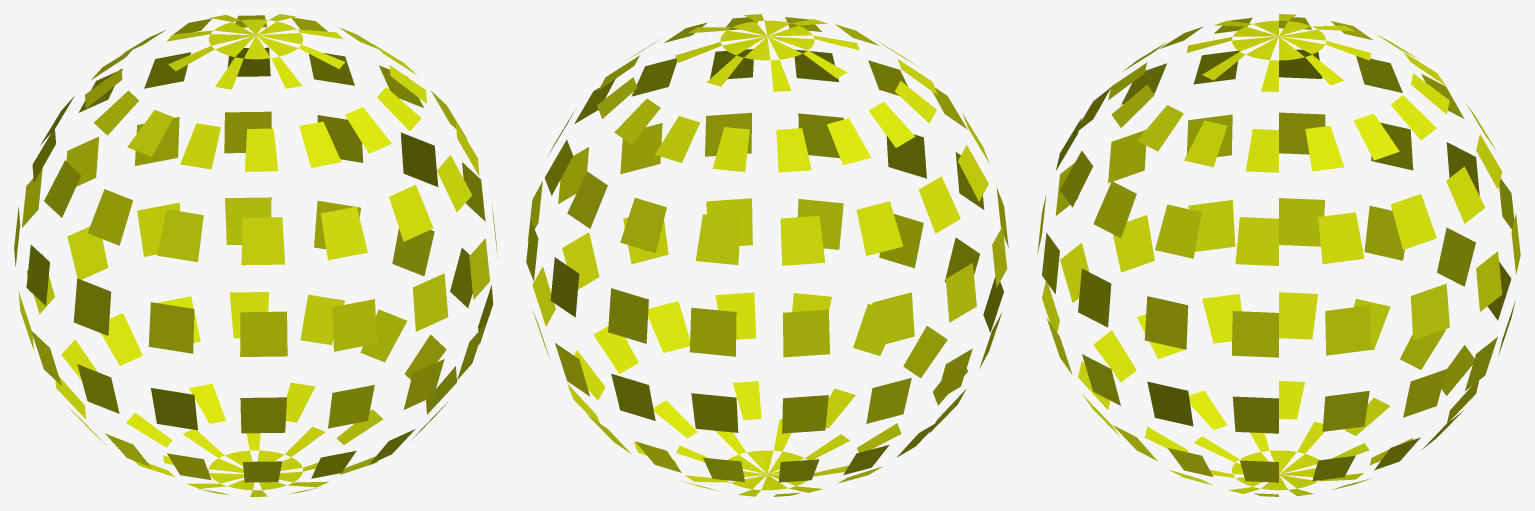
Rendered from sun.glb.
3 views of the same model, side by side, from view 1: azimuth 30°, elevation 25°; view 2: azimuth 150°, elevation 25°; view 3: azimuth 270°, elevation 25° (orthographic).
Parts seen in each view (by area): view 1: Sphere.002; view 2: Sphere.002; view 3: Sphere.002.
Part boxes in pixels (x1,y1,x2,y2): Sphere.002: [14, 14, 497, 496]; Sphere.002: [526, 14, 1008, 496]; Sphere.002: [1037, 14, 1520, 496].
Bounding box in the file's own units: 0.9005 × 0.9005 × 0.9005.
